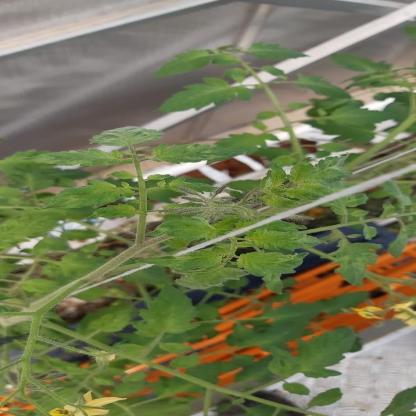T_L_R: (47, 181, 135, 210), (138, 248, 230, 273), (239, 253, 309, 277), (247, 230, 323, 252), (177, 268, 249, 290), (156, 220, 216, 242)
T_S_H: (28, 236, 171, 316)
